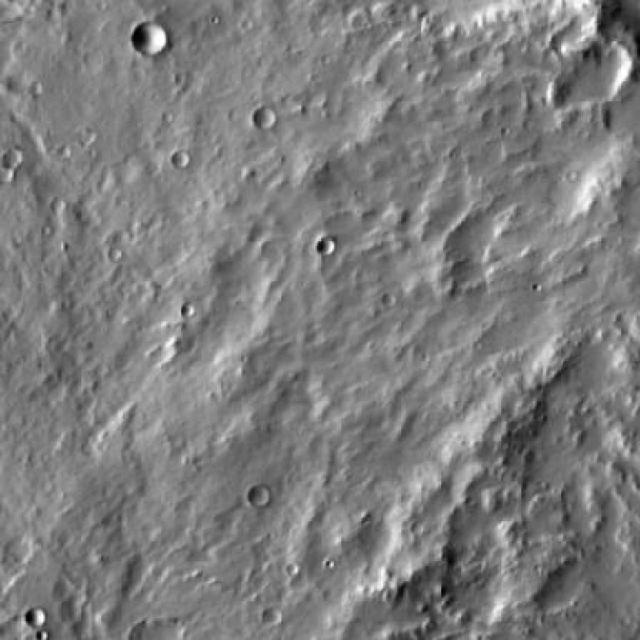crater: (131, 21, 167, 56), (254, 107, 274, 127), (249, 484, 269, 504), (2, 148, 21, 169), (26, 609, 45, 628), (263, 607, 282, 625), (318, 240, 334, 258), (174, 152, 189, 168)
